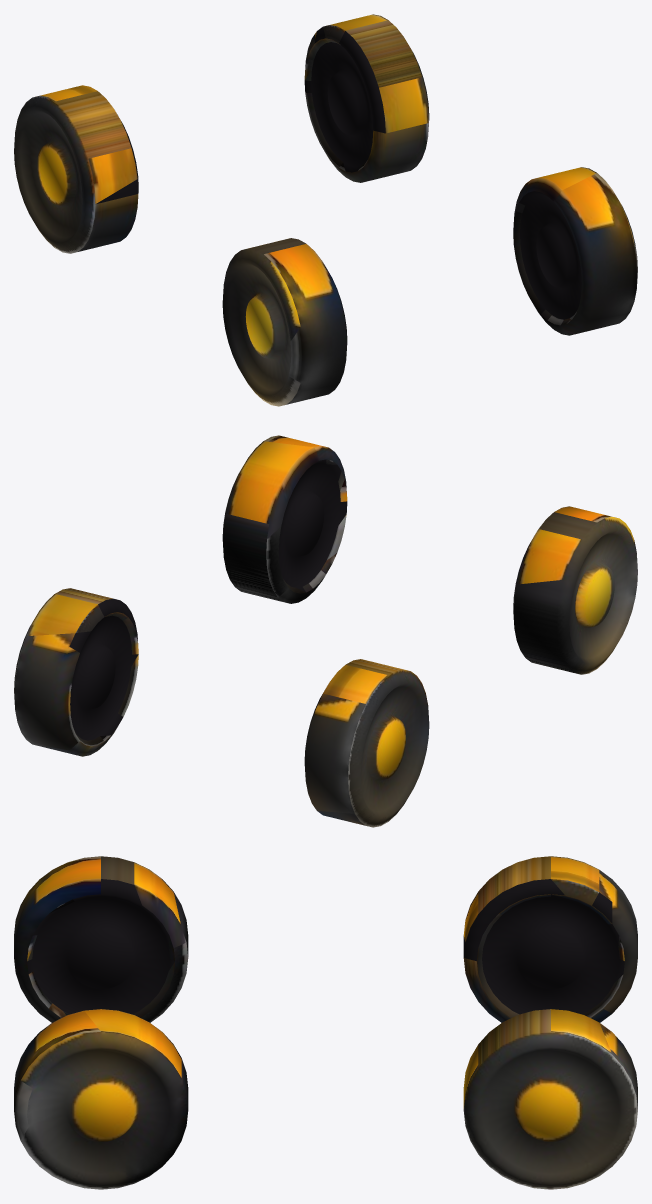
The model's file is wheel.obj.
3 views of the same model, one above another, from view 1: azimuth 30°, elevation 25°; view 2: azimuth 150°, elevation 25°; view 3: azimuth 270°, elevation 25° (orthographic). The views are drawn at different scales.
Parts seen in each view (by area): view 1: Van.026, Van.027, Van.002, Van.028; view 2: Van.002, Van.028, Van.026, Van.027; view 3: Van.027, Van.028, Van.002, Van.026.
Part boxes in pixels (x1,y1,x2,y2): Van.026: [222, 238, 347, 406]; Van.027: [304, 14, 429, 182]; Van.002: [14, 85, 138, 253]; Van.028: [513, 167, 637, 335]; Van.002: [304, 659, 429, 827]; Van.028: [222, 435, 347, 603]; Van.026: [513, 506, 637, 674]; Van.027: [14, 588, 138, 756]; Van.027: [463, 1009, 637, 1189]; Van.028: [14, 1009, 188, 1189]; Van.002: [463, 856, 637, 1022]; Van.026: [14, 856, 188, 1022].
Bounding box in the file's own units: 6.51 × 2.63 × 9.42.
Materials: 1 (1 with a texture image).
